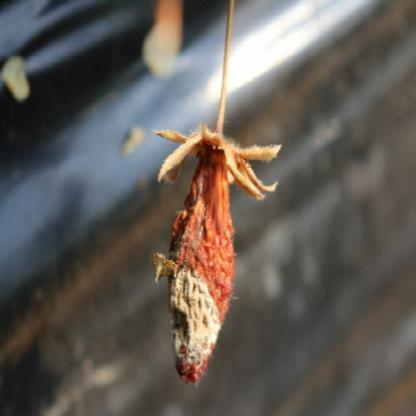Strawberry_Gray_Mold: (151, 121, 283, 384)
